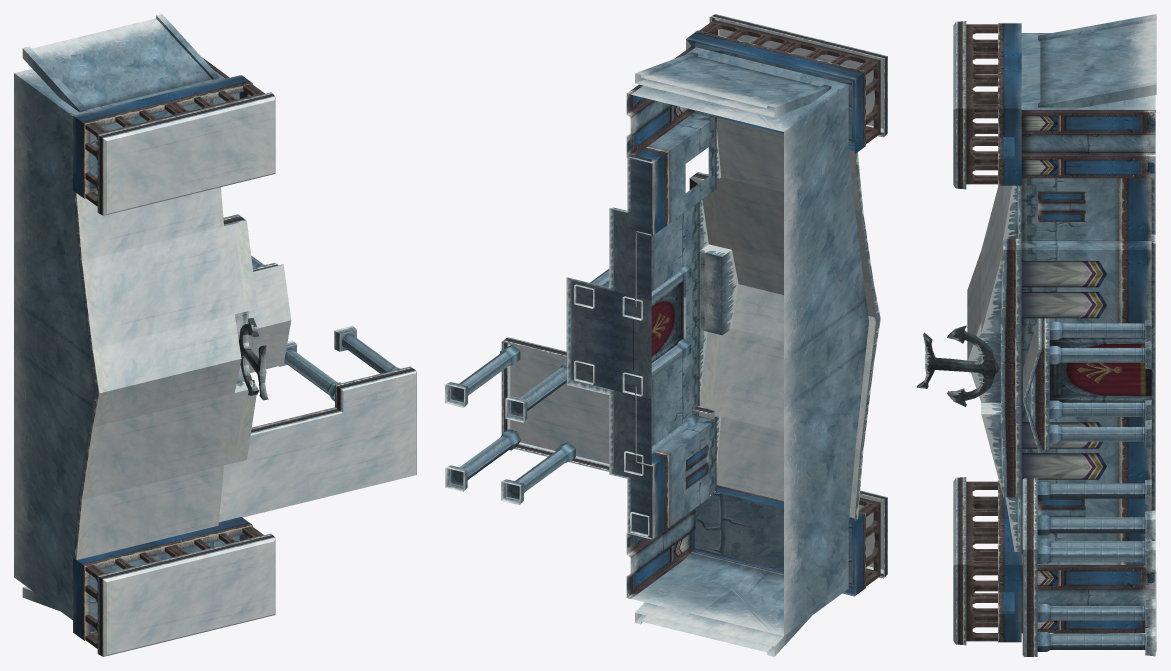
Rendered from zhanchang_fuben_190_fangzi.obj.
3 renders of one model, left to right at view 1: azimuth 30°, elevation 25°; view 2: azimuth 150°, elevation 25°; view 3: azimuth 270°, elevation 25°, orthographic. The views are drawn at different scales.
Parts seen in each view (by area): view 1: Box03; view 2: Box03; view 3: Box03.
Part boxes in pixels (left/top/right/bottom): Box03: left=14, top=14, right=416, bottom=656; Box03: left=445, top=14, right=887, bottom=656; Box03: left=916, top=14, right=1156, bottom=656.
Bounding box in the file's own units: 534 × 807 × 309.
Materials: 6 (6 with a texture image).
